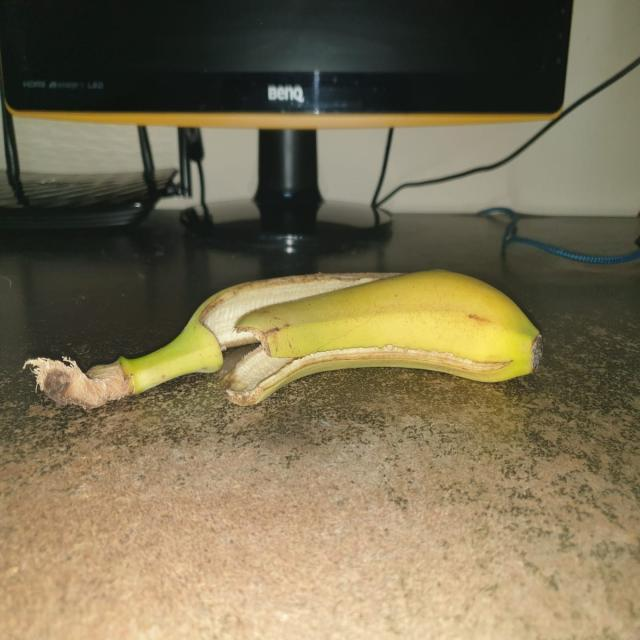banana-peel: (22, 269, 547, 405)
